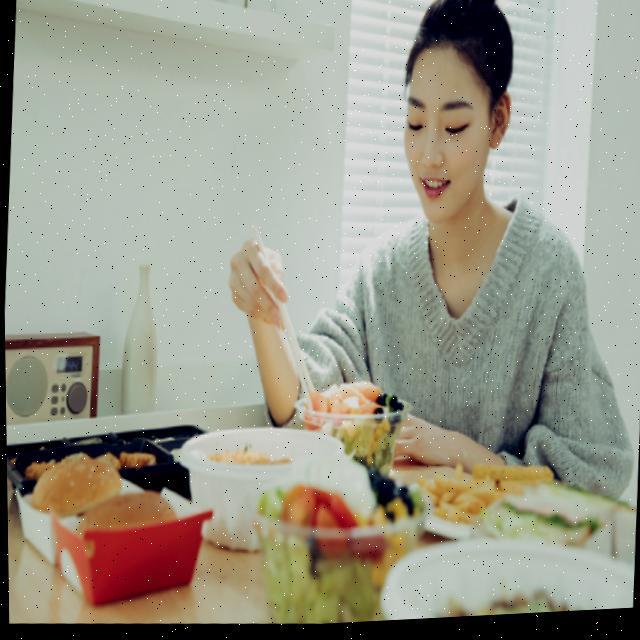eating-person: (212, 0, 640, 547)
